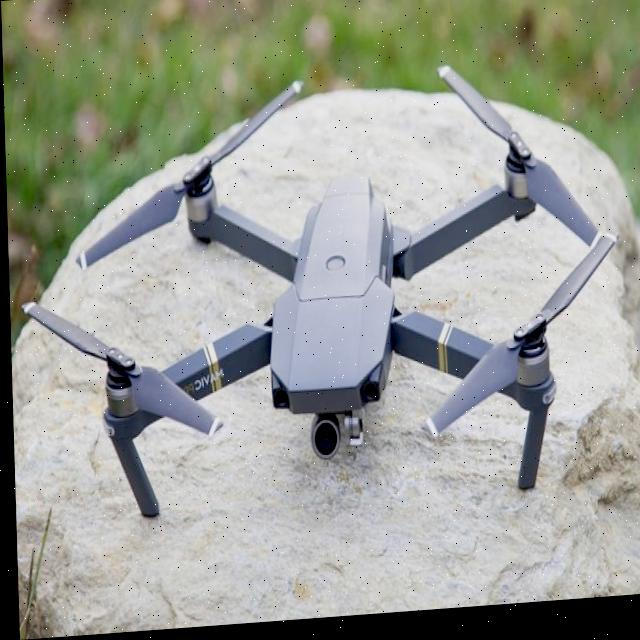drone: (35, 59, 603, 525)
